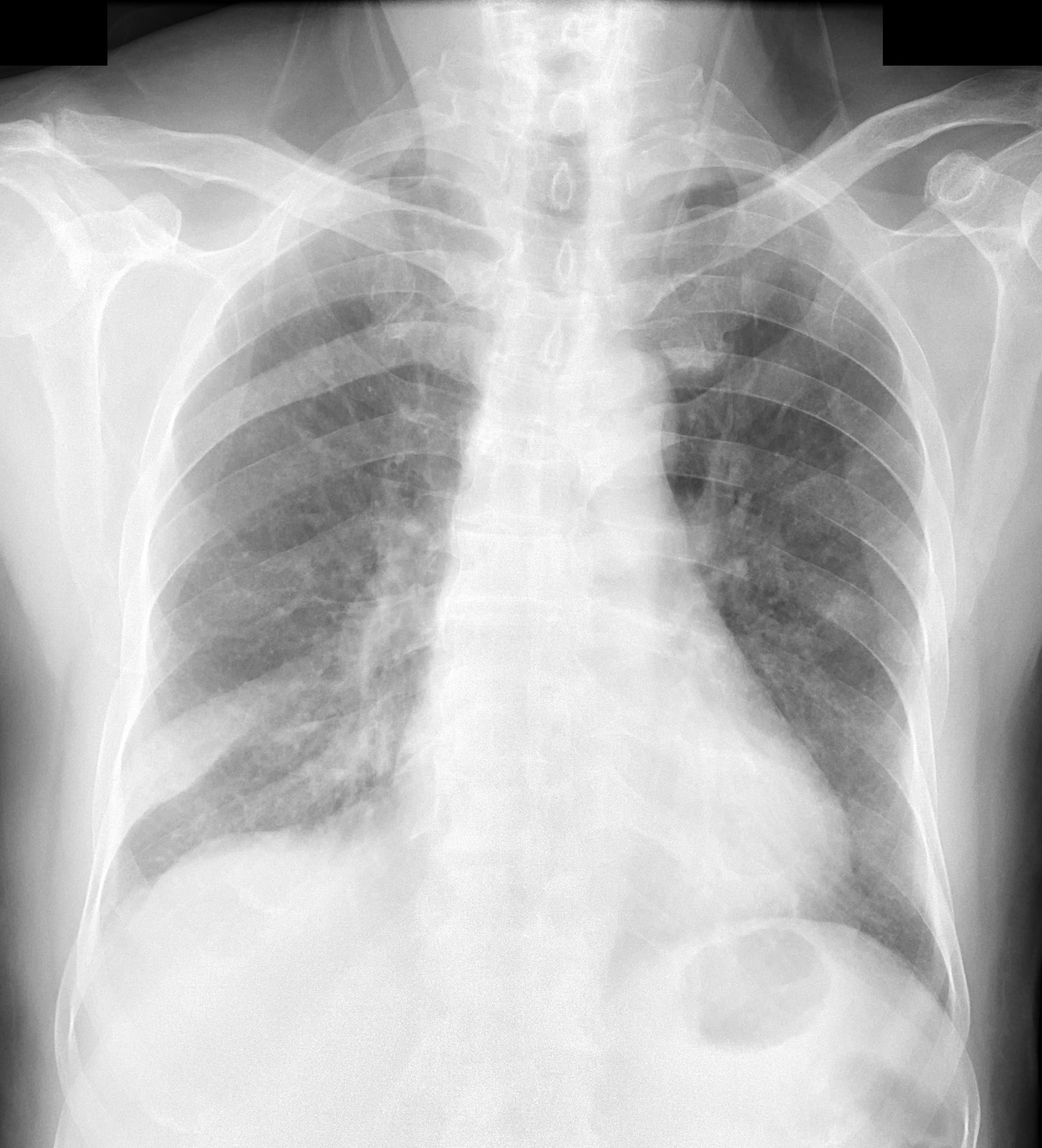Aortic enlargement: (548, 342, 682, 479)
Cardiomegaly: (372, 715, 868, 950)
Pleural thickening: (344, 150, 479, 183), (629, 169, 733, 208)
